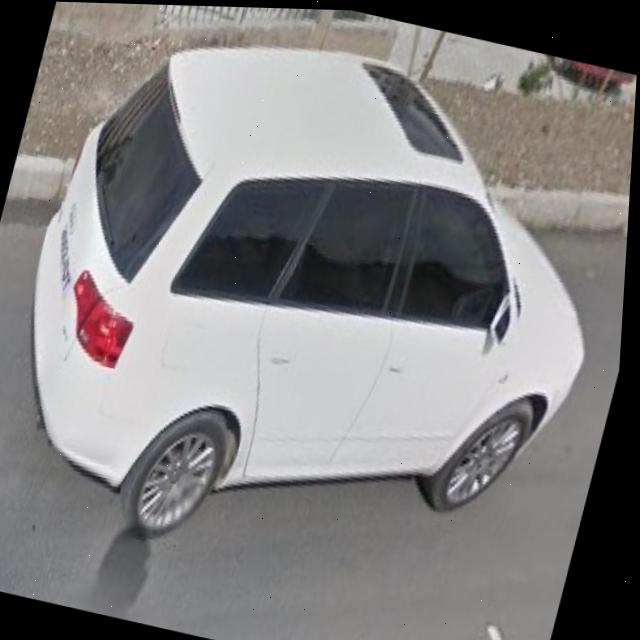vehicle: (0, 0, 640, 611)
